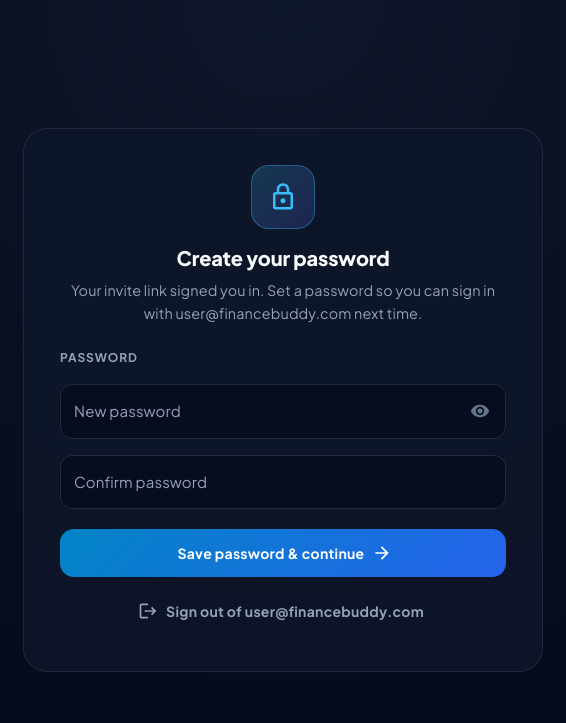
Test case: AccountSetupPrompt › validates password length and matching confirmation
This screenshot has width=566, height=723.
// Short password
Type "short" into the password field labelled "New password" at (258, 411), box x1=60 y1=384 x2=457 y2=439
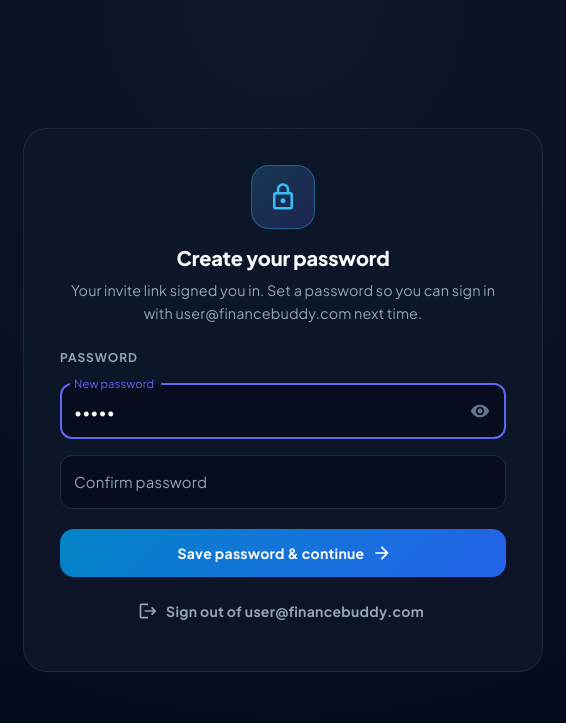
Click the button "Save password & continue" at (283, 553), box x1=60 y1=529 x2=506 y2=577
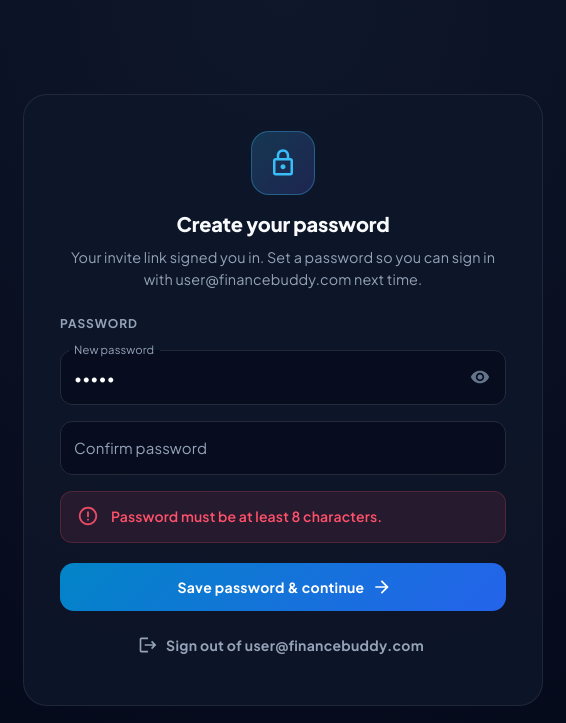
Check: the text "Password must be at least 8 characters." is shown, box x1=111 y1=507 x2=382 y2=525
// Mismatched confirmation
Type "Secret123!" into the password field labelled "New password" at (258, 377), box x1=60 y1=350 x2=457 y2=405
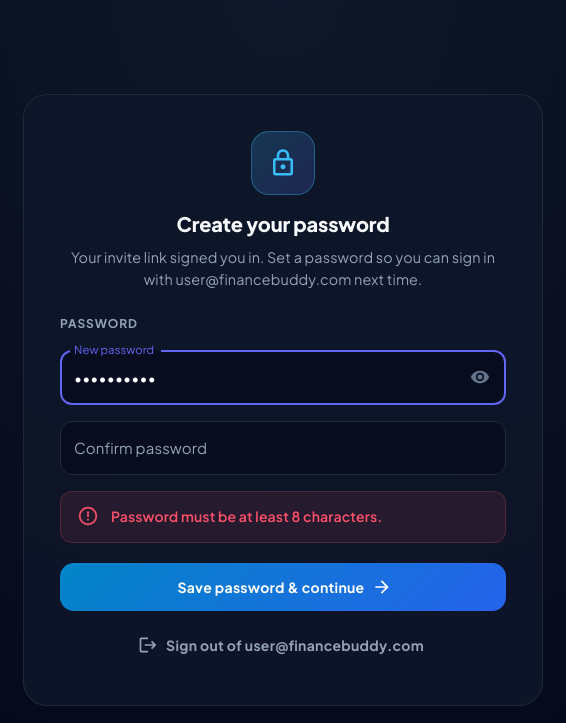
Type "Secret456!" into the password field labelled "Confirm password" at (283, 448), box x1=60 y1=421 x2=506 y2=475
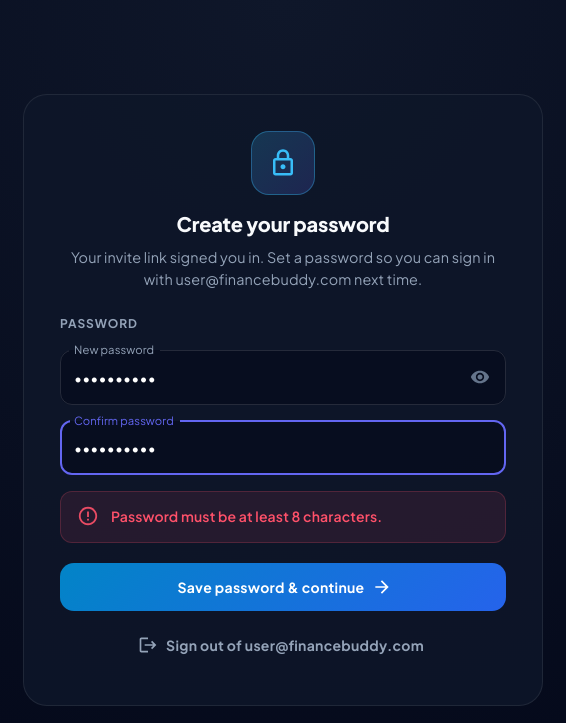
Click the button "Save password & continue" at (283, 587), box x1=60 y1=563 x2=506 y2=611
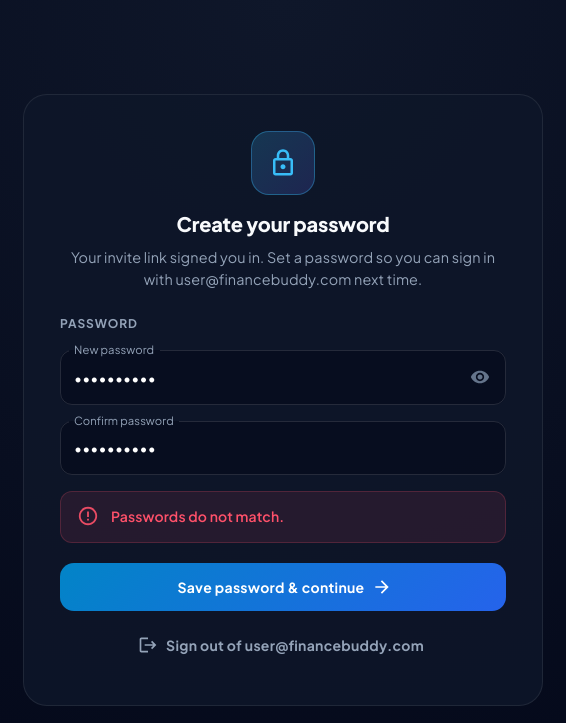
Check: the text "Passwords do not match." is shown, box x1=111 y1=507 x2=284 y2=525
